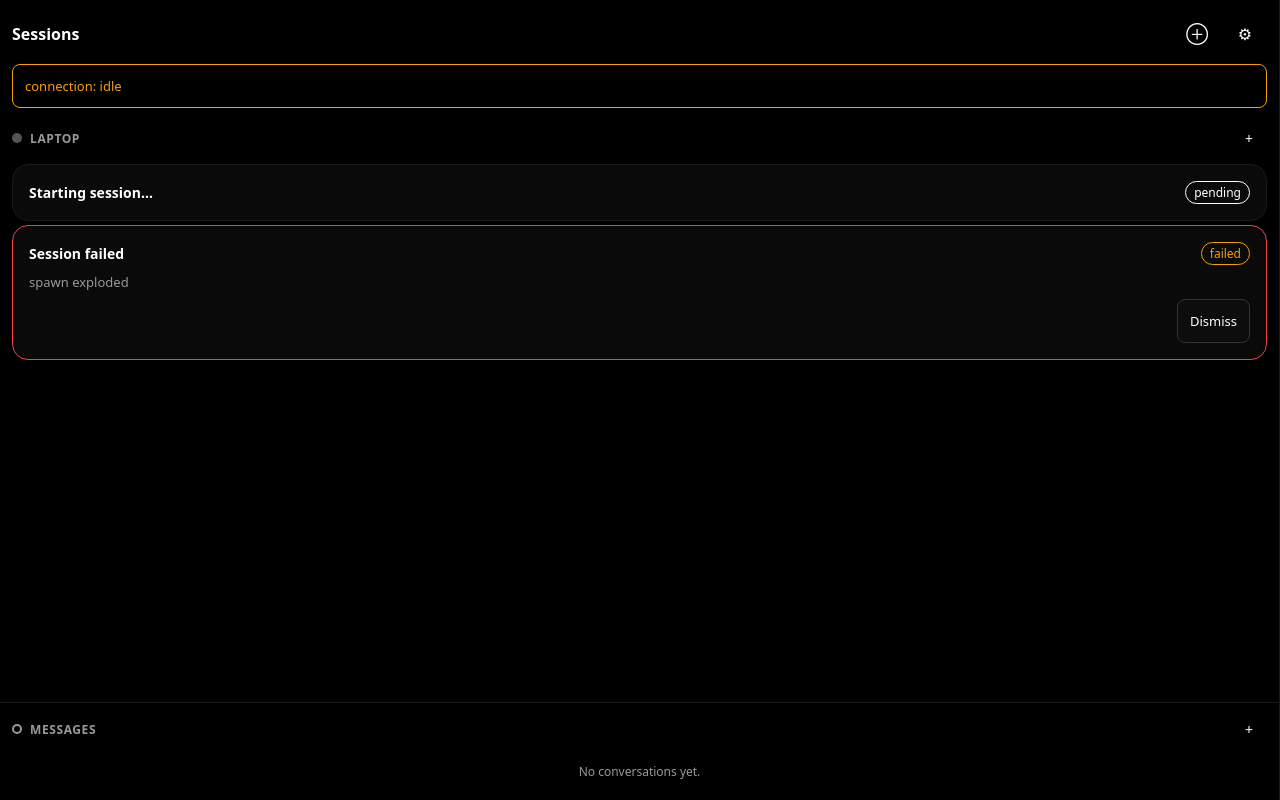
it: Sidebar › pending cards render and a failed one dismisses
expect the text "Starting session…" is shown: met, box left=29, top=183, right=153, bottom=202
expect the text "spawn exploded" is shown: met, box left=29, top=273, right=129, bottom=291
Click the button "Dismiss" at [1214, 321], box left=1177, top=299, right=1250, bottom=343
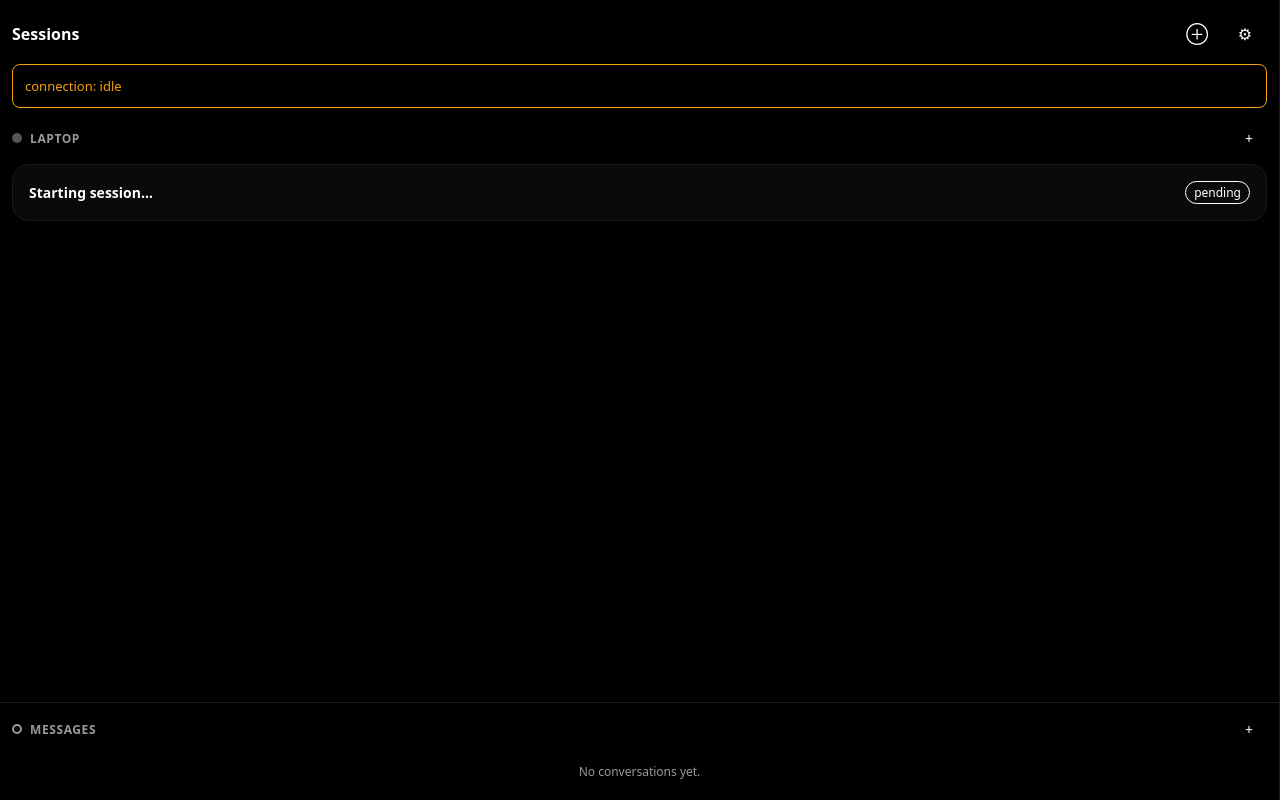
expect the text "spawn exploded" is gone: met
